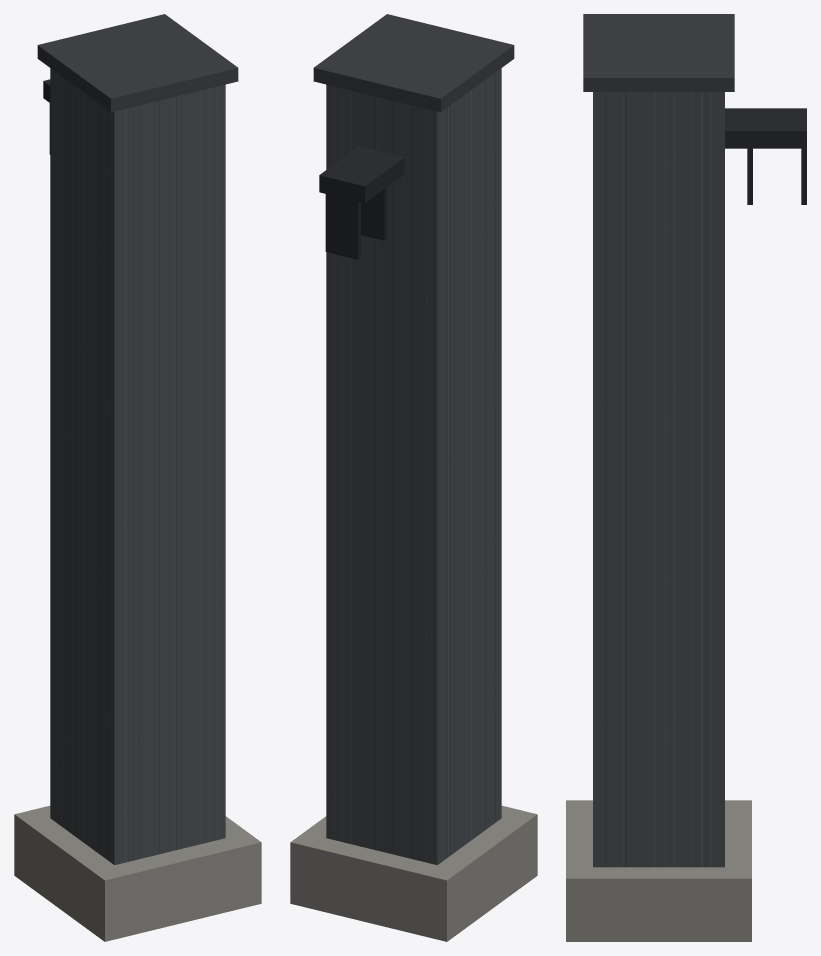
The model's file is MinidoracatKnoxPass_slidepost1_B.glb.
3 views of the same model, side by side, from view 1: azimuth 30°, elevation 25°; view 2: azimuth 150°, elevation 25°; view 3: azimuth 270°, elevation 25° (orthographic). The views are drawn at different scales.
Visible parts, largest first — view 1: MinidoracatKnoxPass_slidepost1_B; view 2: MinidoracatKnoxPass_slidepost1_B; view 3: MinidoracatKnoxPass_slidepost1_B.
Part boxes in pixels (left/top/right/bottom): MinidoracatKnoxPass_slidepost1_B: left=14, top=14, right=261, bottom=941; MinidoracatKnoxPass_slidepost1_B: left=290, top=14, right=537, bottom=941; MinidoracatKnoxPass_slidepost1_B: left=566, top=14, right=806, bottom=941.
Bounding box in the file's own units: 0.48 × 2.44 × 0.622.
1 material, 1 textured.
